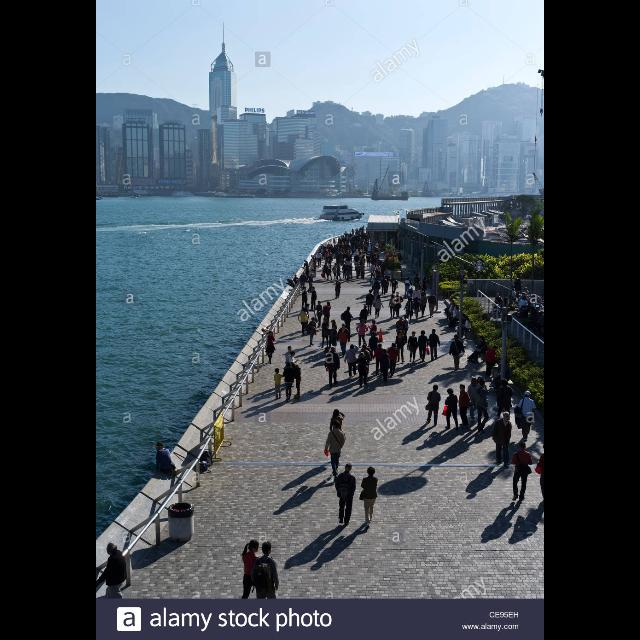head: (262, 542, 274, 556), (106, 542, 118, 556), (248, 540, 260, 552), (366, 467, 376, 477), (503, 412, 511, 422), (518, 442, 528, 450), (333, 420, 341, 430), (156, 443, 164, 452), (345, 464, 353, 472), (479, 379, 486, 386), (471, 378, 477, 386), (460, 384, 466, 392), (448, 388, 454, 396), (501, 379, 507, 386), (454, 334, 460, 340), (360, 352, 366, 358), (286, 362, 292, 368), (290, 352, 296, 358), (525, 392, 531, 398), (478, 377, 484, 383), (433, 385, 439, 391), (334, 409, 340, 415), (480, 336, 484, 342), (432, 329, 436, 335), (420, 332, 426, 336), (399, 331, 403, 337), (347, 306, 351, 312), (332, 326, 338, 330), (363, 342, 367, 348), (350, 344, 354, 350), (378, 344, 384, 348), (276, 368, 280, 374), (288, 346, 292, 352), (494, 346, 498, 352), (268, 332, 274, 336), (495, 293, 499, 297), (312, 287, 316, 291), (304, 288, 308, 292), (382, 276, 386, 280), (374, 278, 378, 282), (377, 295, 381, 299), (369, 290, 373, 294), (431, 292, 435, 296), (408, 298, 412, 302), (412, 332, 416, 336), (404, 316, 408, 320), (364, 305, 368, 309), (327, 302, 331, 306), (318, 301, 322, 305), (302, 308, 306, 312), (312, 318, 316, 322), (323, 318, 327, 322), (332, 320, 336, 324), (342, 324, 346, 328), (372, 321, 376, 325), (372, 333, 376, 337), (363, 346, 367, 350), (392, 344, 396, 348), (383, 350, 387, 354), (332, 348, 336, 352), (522, 297, 526, 301), (524, 288, 528, 292), (522, 293, 526, 297), (396, 292, 399, 296), (416, 287, 419, 291), (312, 273, 314, 277), (337, 280, 339, 284), (392, 276, 396, 278), (391, 296, 395, 298), (408, 276, 410, 280), (424, 278, 428, 280), (424, 293, 426, 297), (416, 298, 418, 302), (400, 318, 402, 322), (362, 321, 364, 325), (511, 288, 514, 290), (368, 254, 370, 256), (318, 252, 320, 254), (329, 255, 331, 257), (326, 252, 328, 254), (377, 264, 379, 266), (373, 264, 375, 266), (338, 266, 340, 268), (334, 264, 336, 266), (314, 256, 316, 258), (288, 279, 290, 281), (295, 276, 297, 278), (304, 274, 306, 276), (420, 288, 422, 290), (306, 306, 308, 308), (325, 264, 327, 266)
person: (232, 540, 266, 618), (251, 541, 279, 629), (96, 541, 128, 617), (335, 464, 357, 526), (511, 442, 533, 502), (324, 420, 346, 480), (359, 466, 379, 530), (514, 391, 536, 442), (492, 410, 512, 466), (494, 378, 514, 424), (152, 442, 178, 476), (474, 379, 490, 433), (329, 408, 346, 457), (442, 388, 460, 430), (466, 378, 482, 422), (425, 384, 441, 428), (448, 334, 466, 372), (324, 347, 340, 388), (458, 385, 472, 427), (468, 335, 488, 363), (286, 350, 300, 388), (475, 376, 487, 419), (372, 344, 388, 376), (484, 346, 501, 376), (344, 344, 358, 380), (386, 342, 400, 378), (427, 328, 441, 362), (337, 324, 351, 358), (283, 362, 295, 401), (340, 306, 354, 338), (358, 344, 370, 380), (357, 352, 369, 388), (416, 330, 429, 362), (361, 343, 374, 375), (379, 348, 391, 382), (265, 331, 277, 365), (285, 346, 295, 386), (407, 331, 419, 363), (394, 330, 406, 362), (274, 368, 286, 400), (356, 320, 369, 348), (298, 306, 310, 336), (307, 317, 317, 347), (368, 332, 378, 361), (492, 292, 504, 316), (518, 291, 530, 315), (328, 324, 339, 350), (428, 291, 438, 319), (328, 320, 338, 348), (322, 317, 331, 348), (518, 296, 530, 318), (521, 288, 533, 310), (374, 294, 384, 320), (365, 290, 375, 316), (388, 294, 398, 320), (394, 292, 404, 318), (412, 287, 422, 313), (396, 318, 406, 344), (359, 304, 369, 330), (322, 302, 332, 328), (404, 297, 414, 321), (402, 314, 410, 344), (368, 320, 378, 344), (316, 300, 324, 328), (404, 276, 414, 298), (420, 292, 428, 318), (372, 278, 382, 298), (310, 287, 318, 311), (413, 296, 421, 320), (322, 262, 331, 282), (307, 272, 315, 294), (417, 288, 425, 310), (507, 288, 518, 304), (286, 278, 298, 292), (304, 303, 310, 331), (300, 272, 308, 292), (391, 274, 399, 294), (310, 254, 318, 272), (302, 288, 308, 312), (422, 276, 428, 298), (292, 274, 300, 290), (369, 262, 375, 282), (335, 279, 341, 299), (382, 276, 388, 296), (376, 263, 382, 281), (336, 264, 342, 282), (328, 253, 334, 270), (366, 254, 372, 270), (317, 252, 323, 268), (332, 264, 338, 280), (324, 251, 330, 265)
